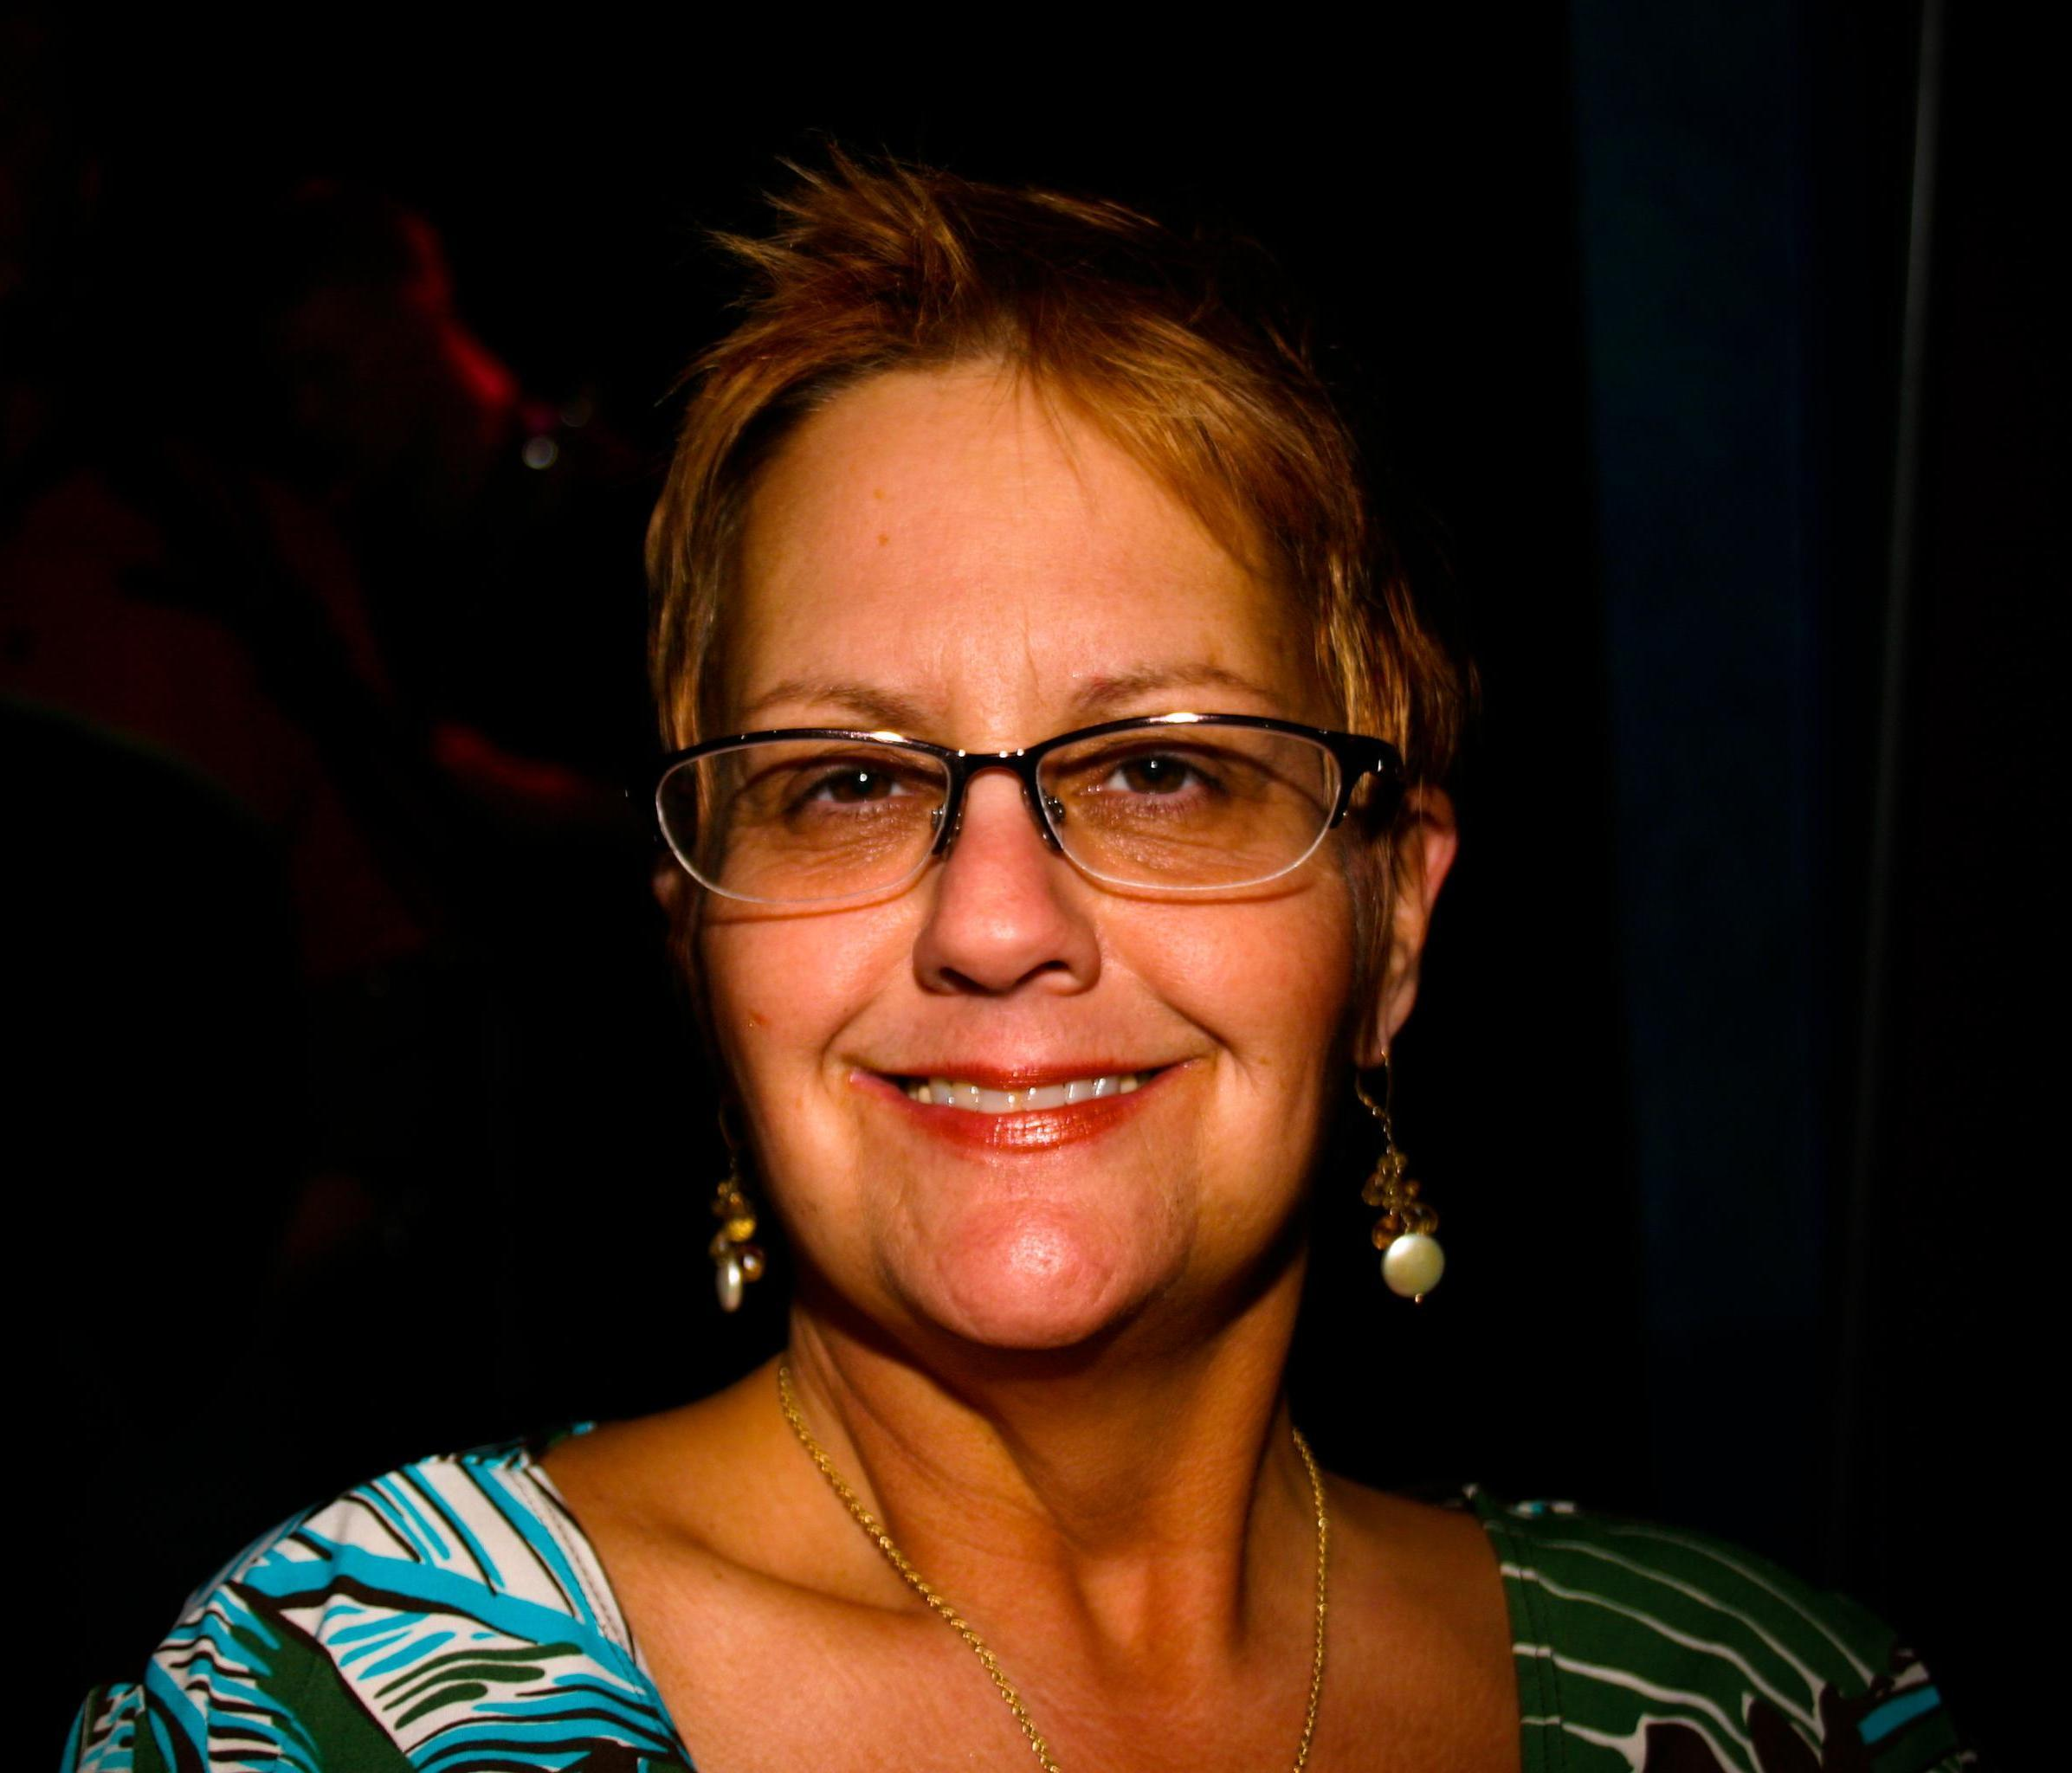Eyebags: (795, 802, 925, 874), (1083, 792, 1224, 853)
